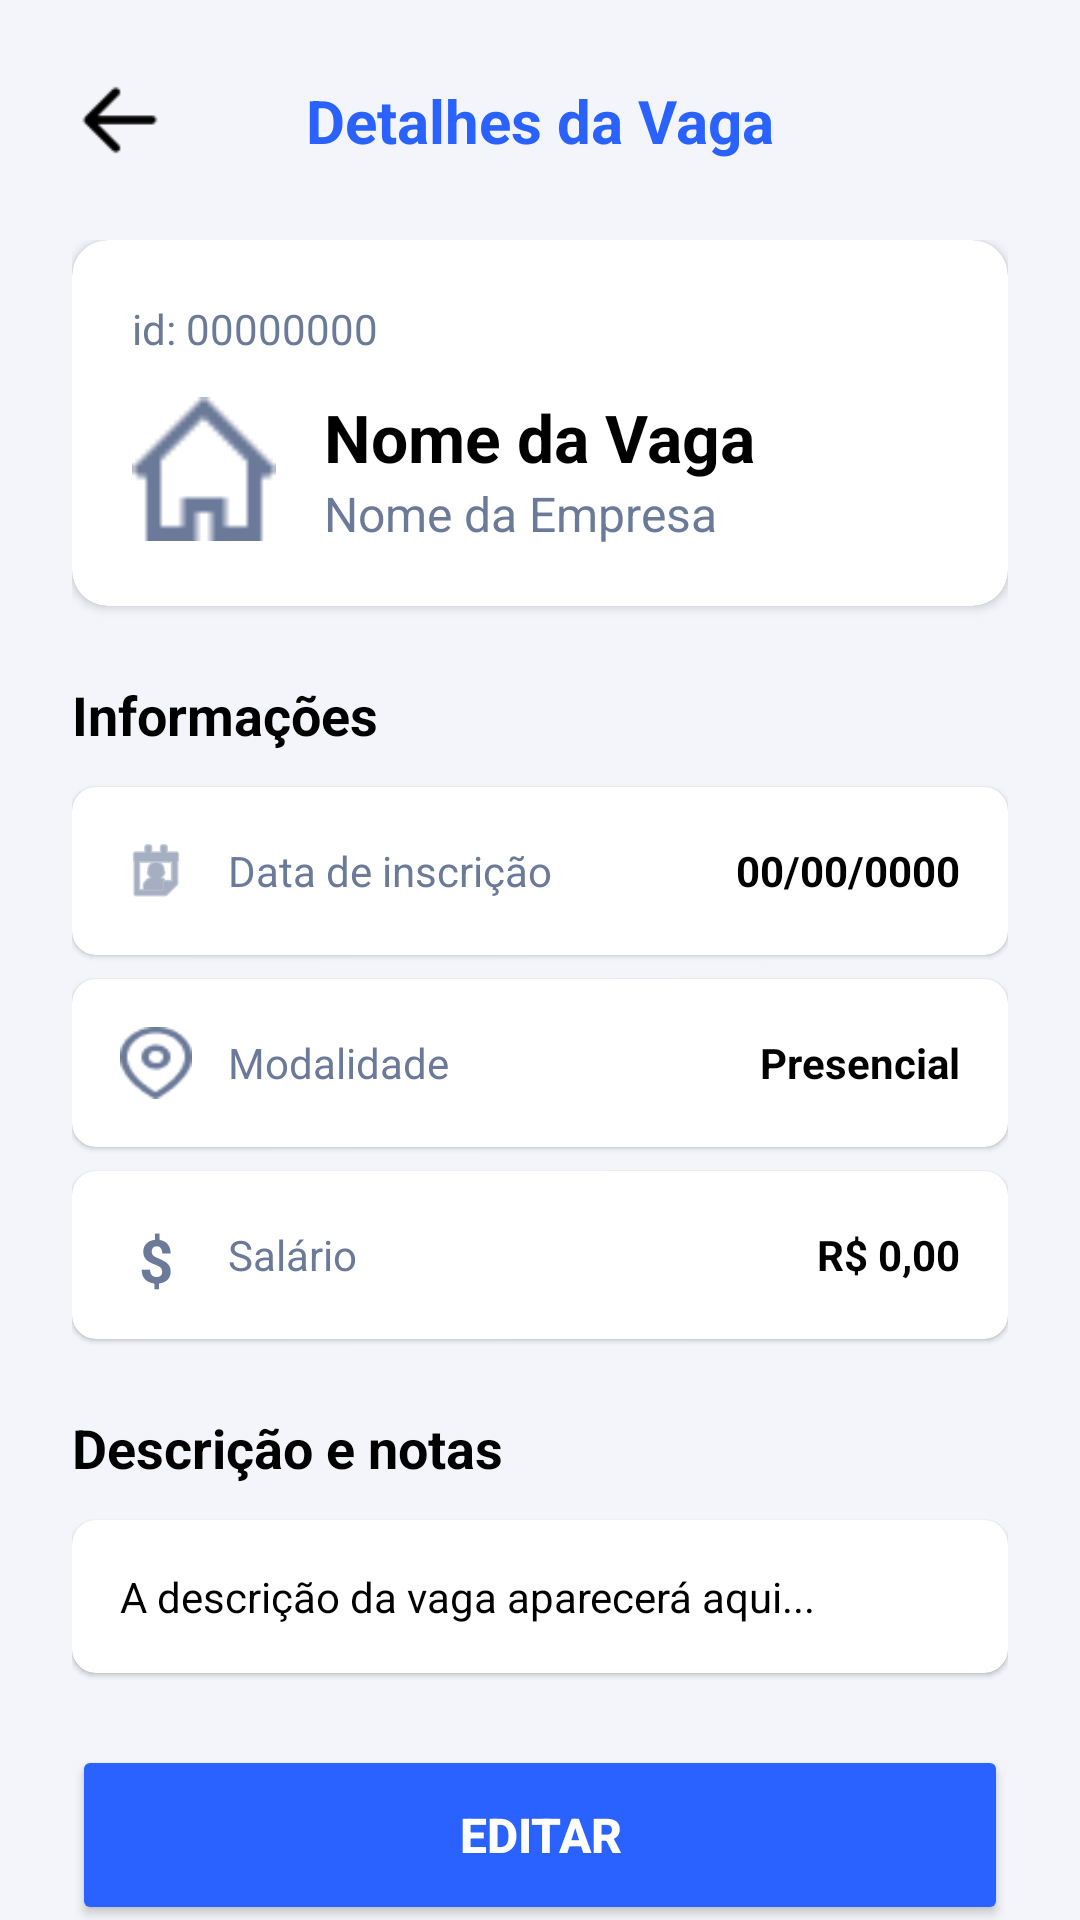

Icon bounding boxes for this 1080*1920 phone screenshot, format (x1, y1, x2, y2):
calendar: (133, 844, 179, 897)
home: (132, 397, 276, 541)
voltar: (82, 87, 158, 153)
